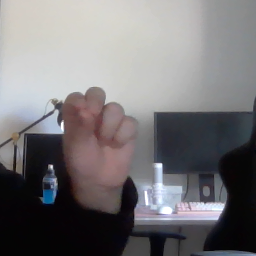N: (52, 85, 142, 185)
